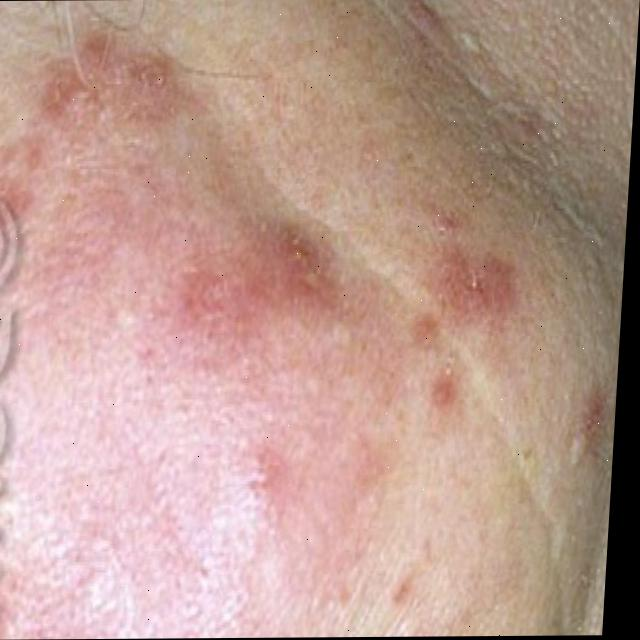Rosacea: (19, 15, 543, 565)
